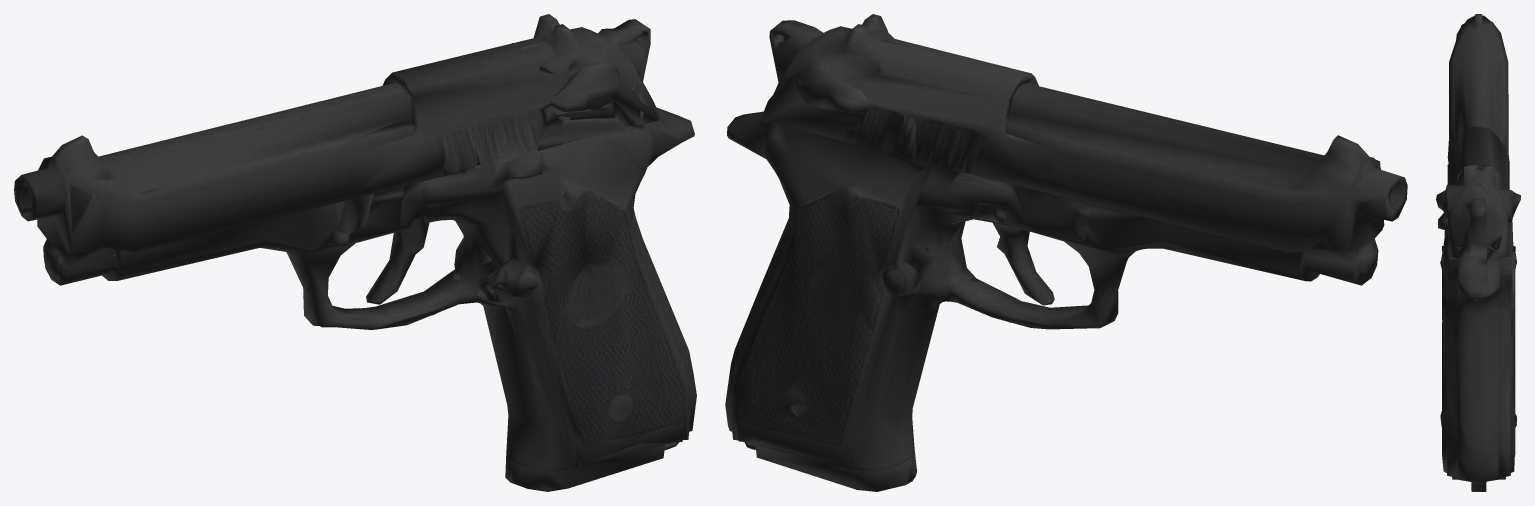
File: wpn_pistol.glb
3 views of the same model, side by side, from view 1: azimuth 30°, elevation 25°; view 2: azimuth 150°, elevation 25°; view 3: azimuth 270°, elevation 25° (orthographic). The views are drawn at different scales.
Parts seen in each view (by area): view 1: Mesh_0; view 2: Mesh_0; view 3: Mesh_0.
Part boxes in pixels (bbox=[...]): Mesh_0: bbox=[14, 14, 696, 491]; Mesh_0: bbox=[725, 14, 1407, 491]; Mesh_0: bbox=[1436, 14, 1520, 491].
Bounding box in the file's own units: 1.9 × 1.23 × 0.3242.
1 material, 1 textured.
